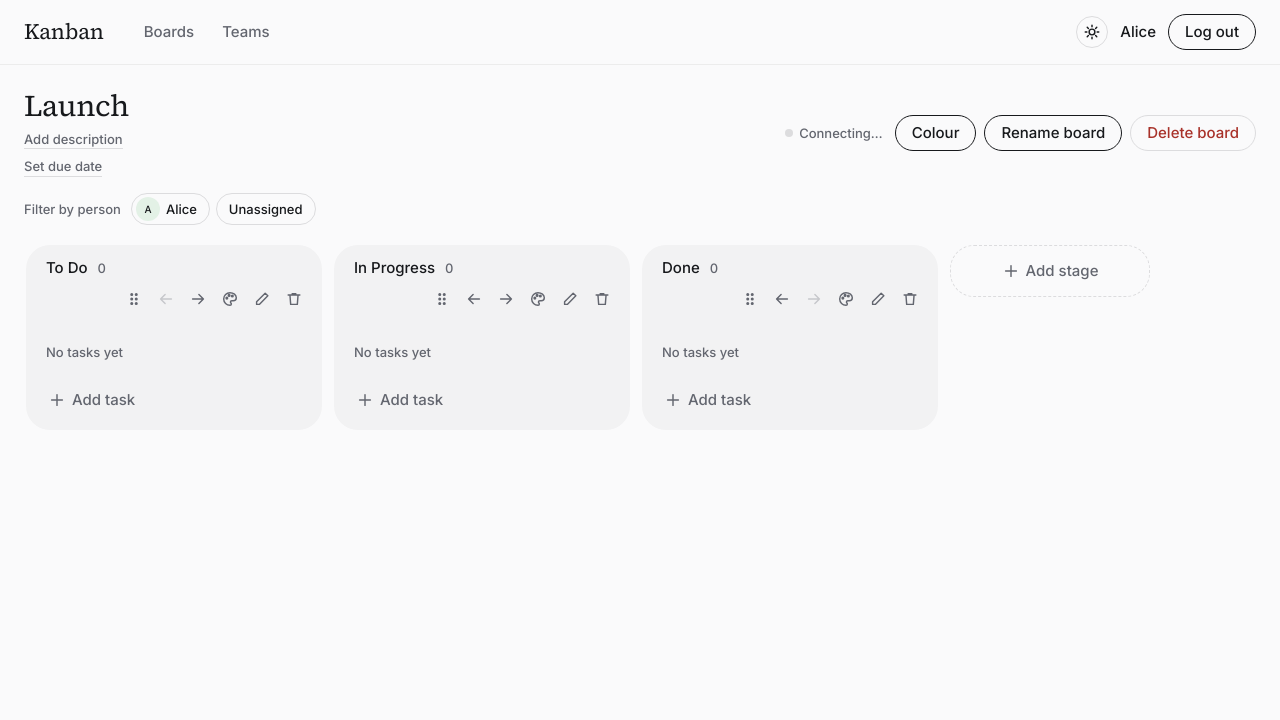
Test case: board colours › changes a board’s colour from the board page
The width and height of the screenshot is (1280, 720).
Click the button with aria-label "Board colour" at (936, 133), box left=895, top=115, right=976, bottom=151
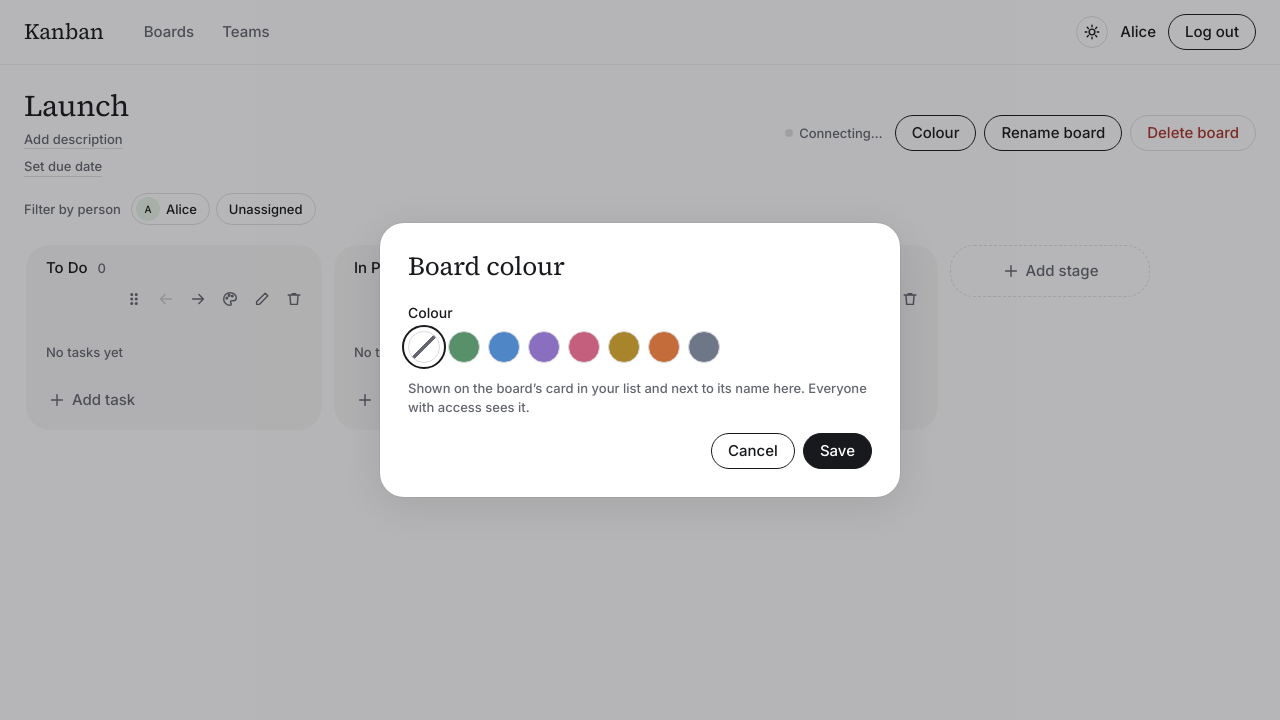
Click the radio button named "Peach" at (664, 347), box left=648, top=331, right=680, bottom=363
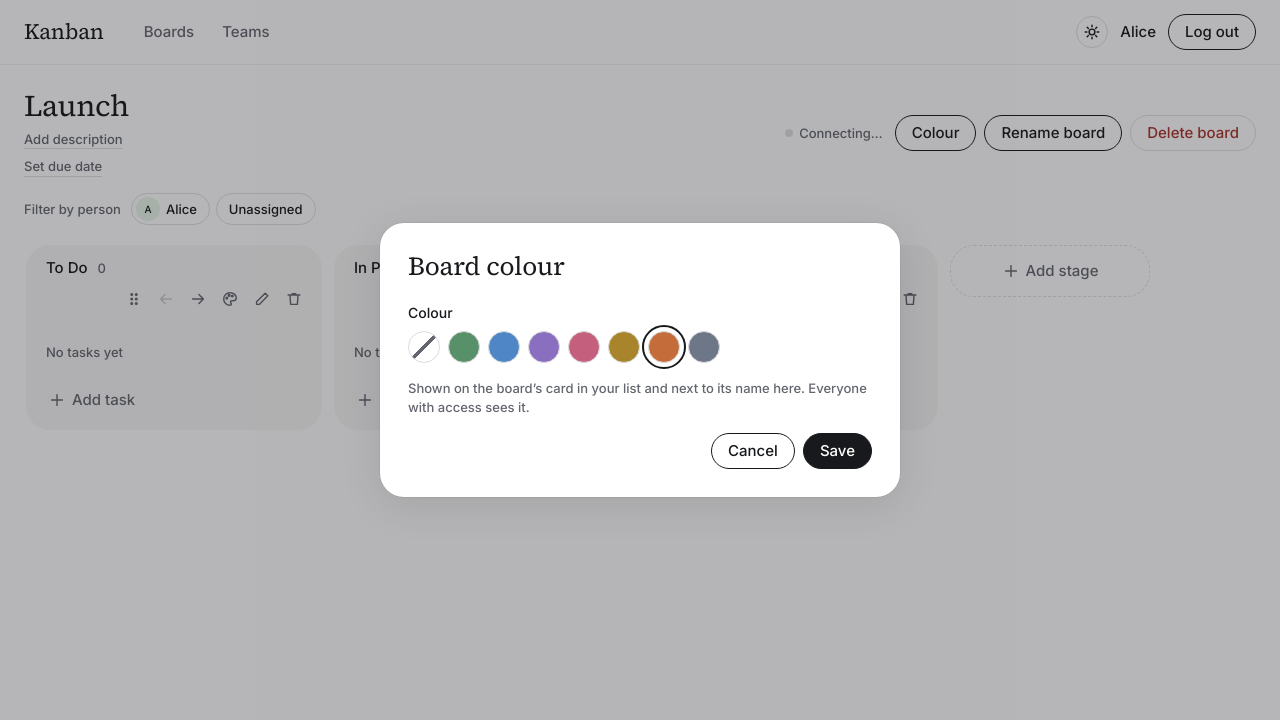
Click the button "Save" at (837, 451), box left=803, top=433, right=872, bottom=469
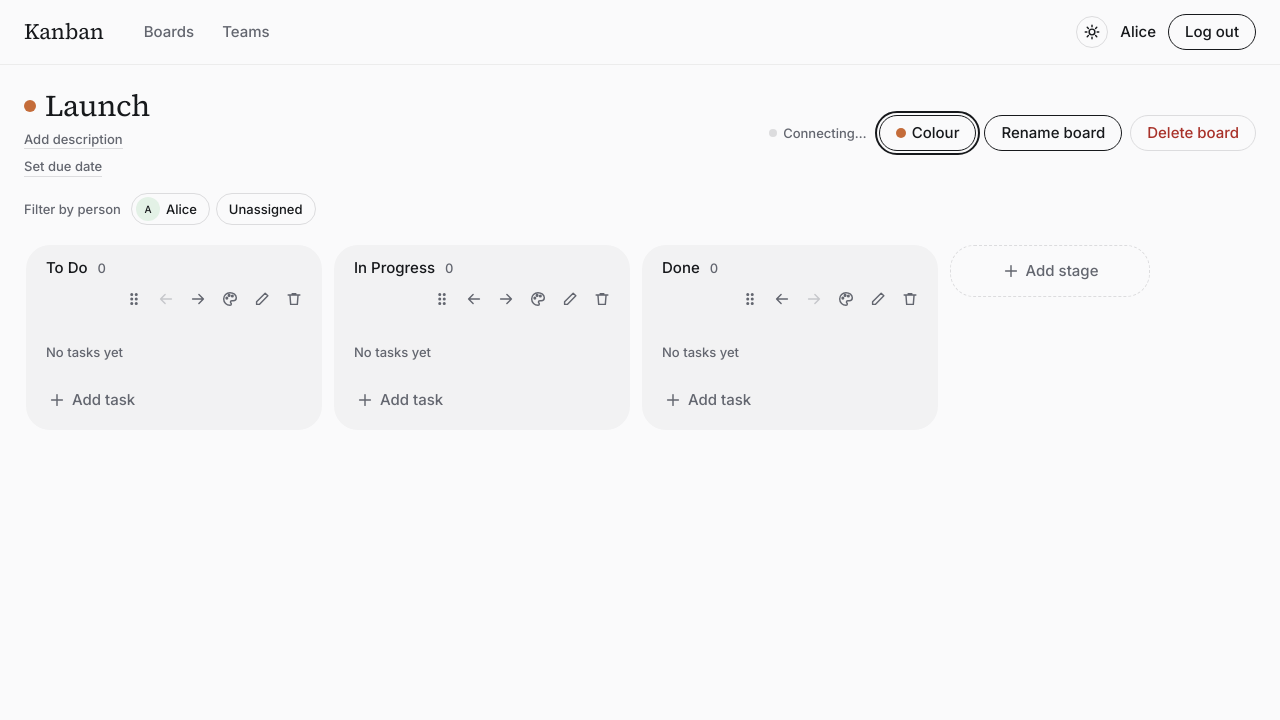
Now the dialog is gone
